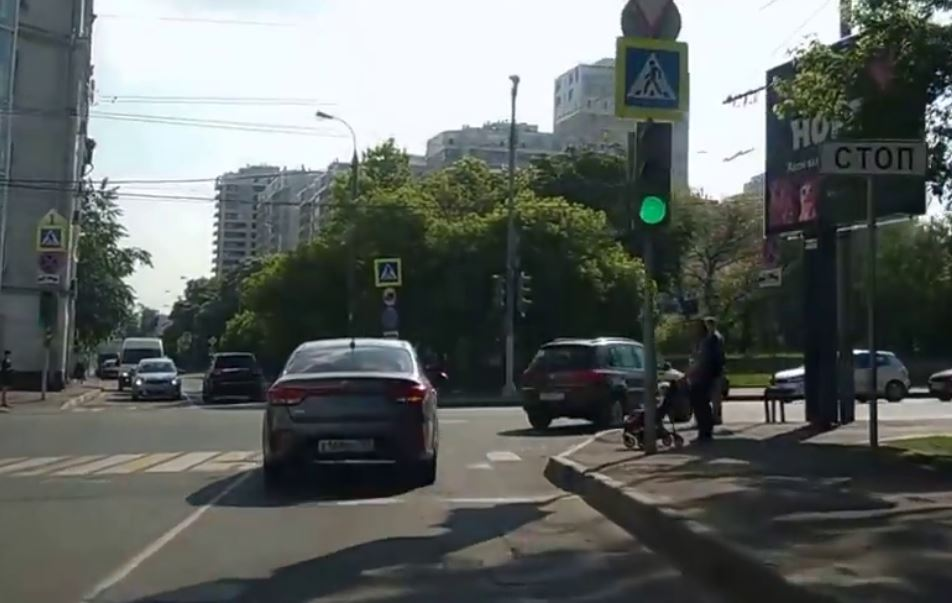Yaya Gecidi: (628, 42, 683, 114)
